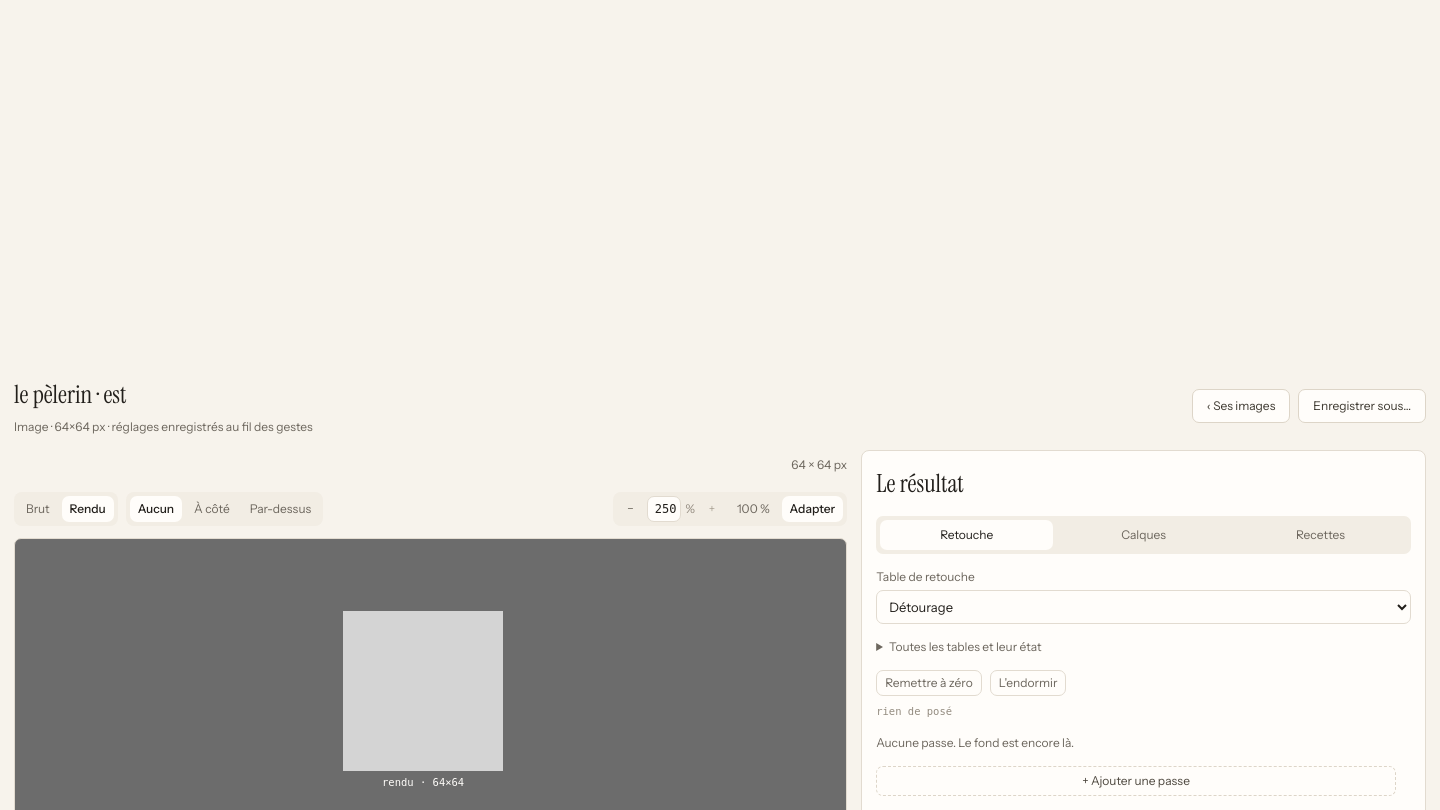
Test: la fenêtre envoie la case choisie et dit où le résultat est rangé
The width and height of the screenshot is (1440, 810).
(page scrolled)
Click the button "Enregistrer sous…" at (1362, 406), box [1298, 389, 1426, 423]
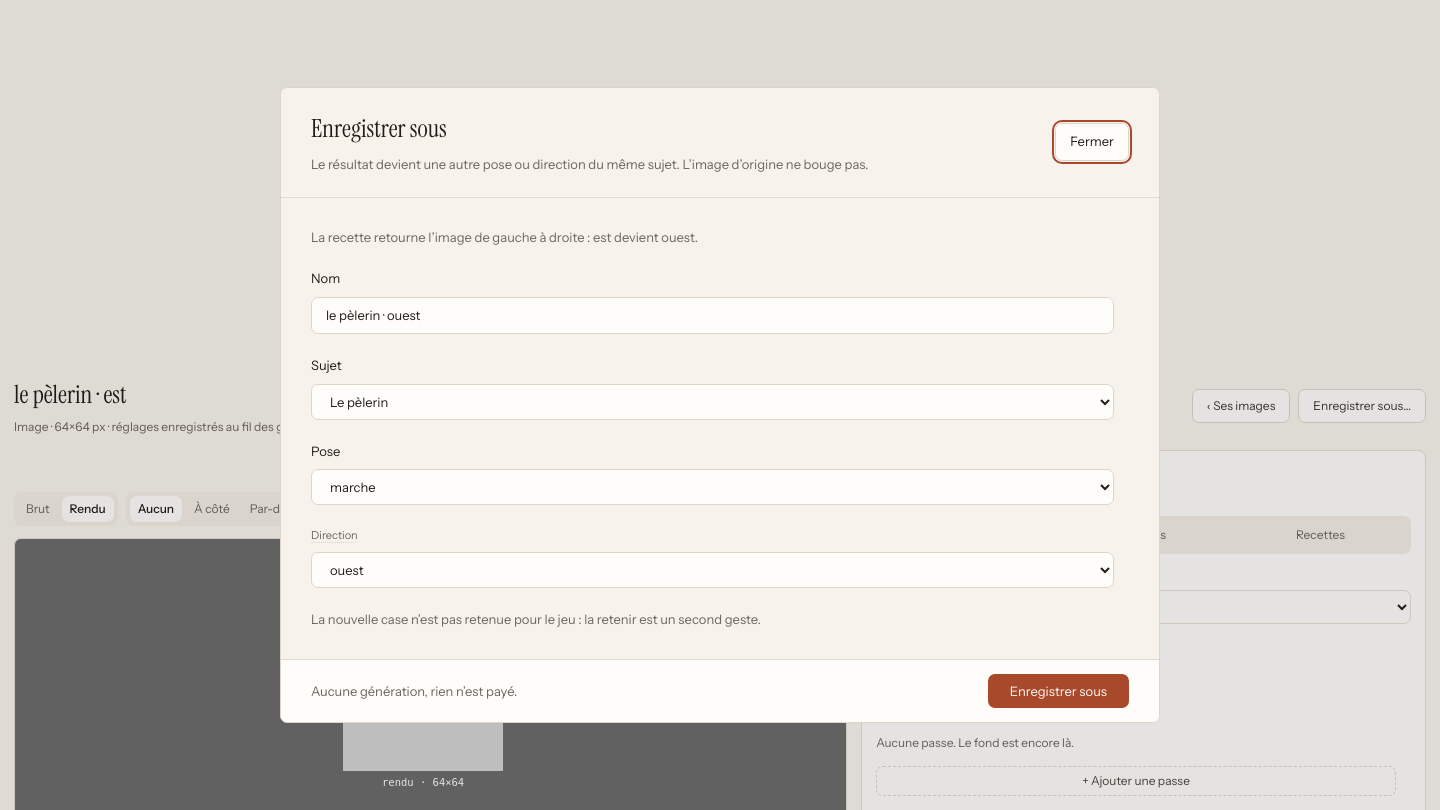
Expected: the dialog labelled "Enregistrer sous" is shown, [280, 87, 1160, 723]
Expected: the dropdown labelled "Direction" shows "ouest"
Select "est" in the dropdown labelled "Direction" at (712, 570), box [311, 552, 1114, 588]
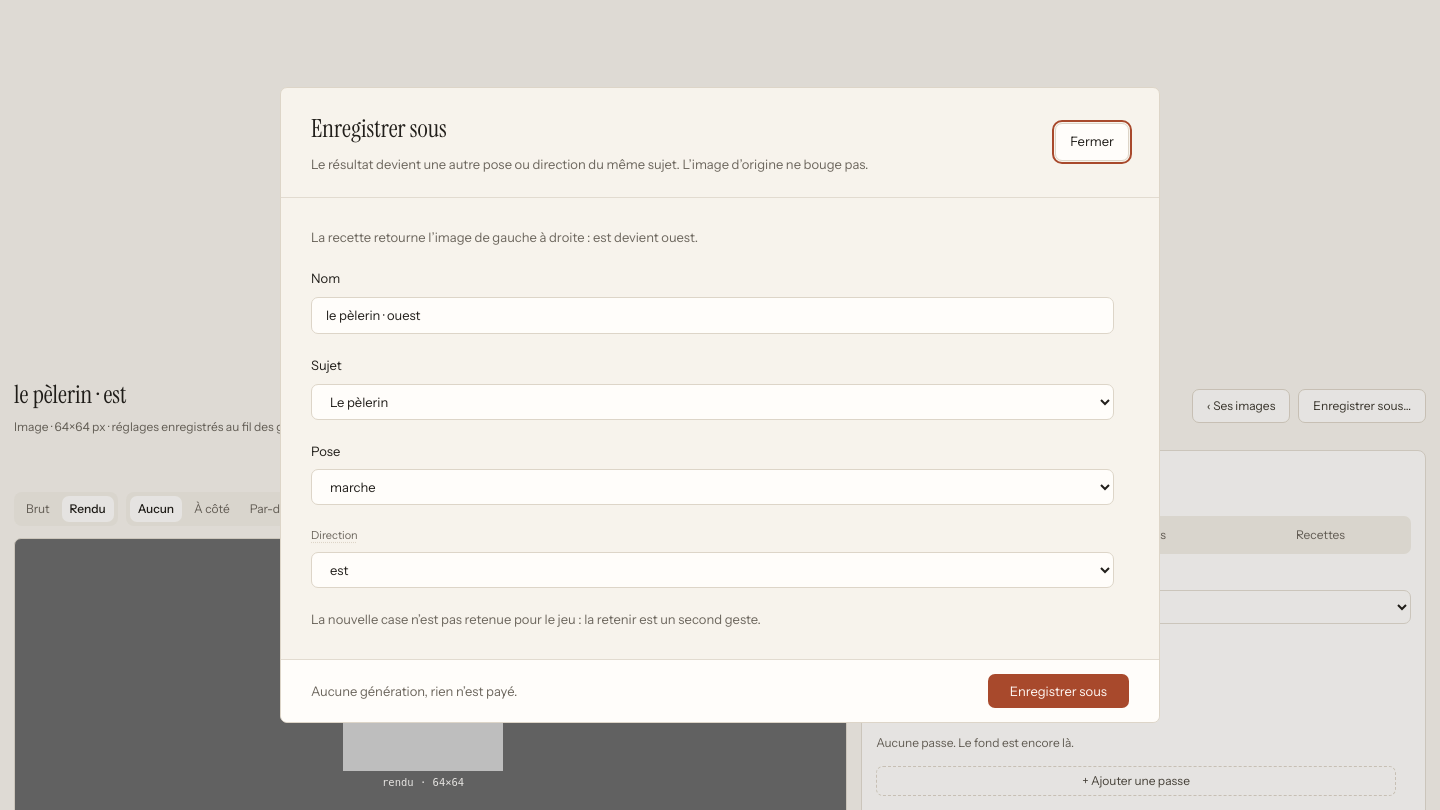
Click the button "Enregistrer sous" at (1058, 691), box [988, 674, 1129, 708]
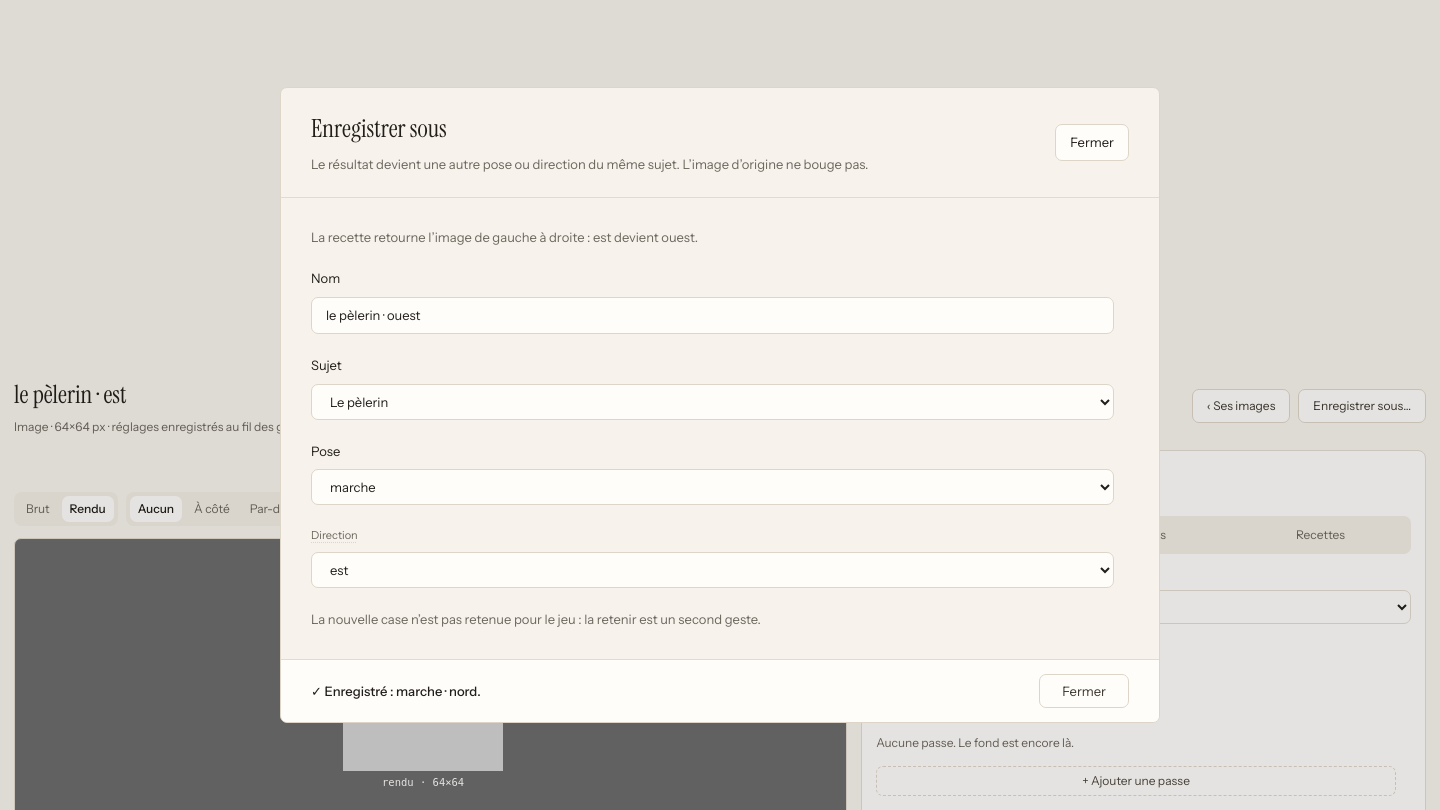
Expected: the text "✓ Enregistré : marche · nord." is shown, [311, 682, 481, 701]
